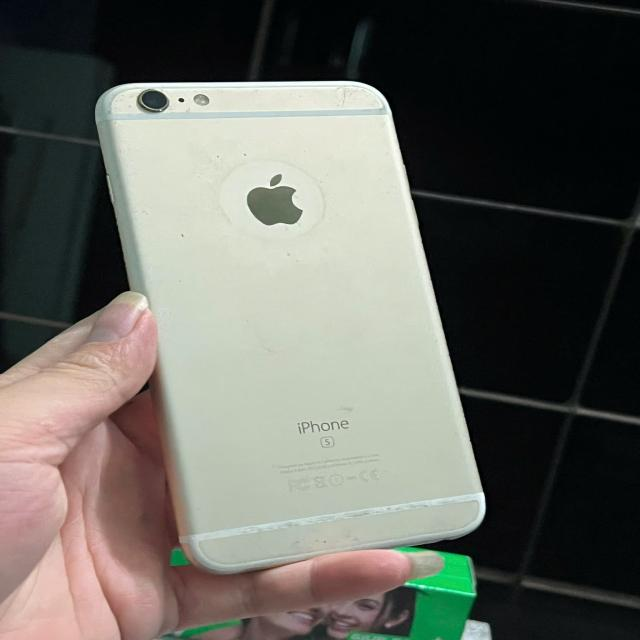gen_6: (97, 74, 485, 568)
